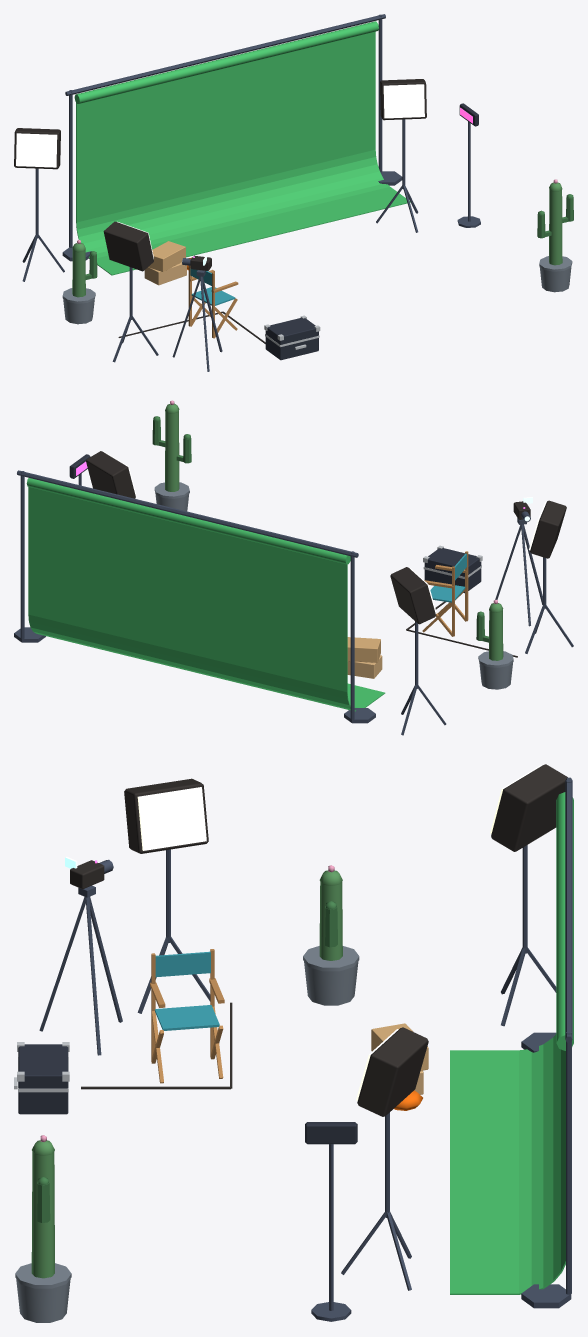
The model's file is einrichtung_greenscreen.glb.
3 views of the same model, one above another, from view 1: azimuth 30°, elevation 25°; view 2: azimuth 150°, elevation 25°; view 3: azimuth 270°, elevation 25° (orthographic). The views are drawn at different scales.
Parts seen in each view (by area): view 1: einrichtung_greenscreen; view 2: einrichtung_greenscreen; view 3: einrichtung_greenscreen.
Boxes of the visible parts, <box> form: einrichtung_greenscreen: <box>14,14,573,371</box>; einrichtung_greenscreen: <box>14,400,573,735</box>; einrichtung_greenscreen: <box>14,764,573,1322</box>.
Size of the model in its own units: 6.58 by 2.36 by 4.47.
